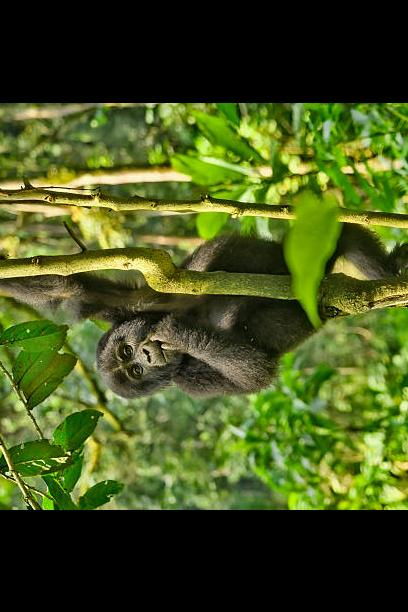goriile_montagne: (0, 191, 408, 426)
